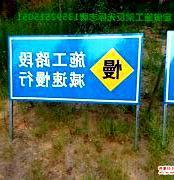sign: (9, 35, 140, 103)
